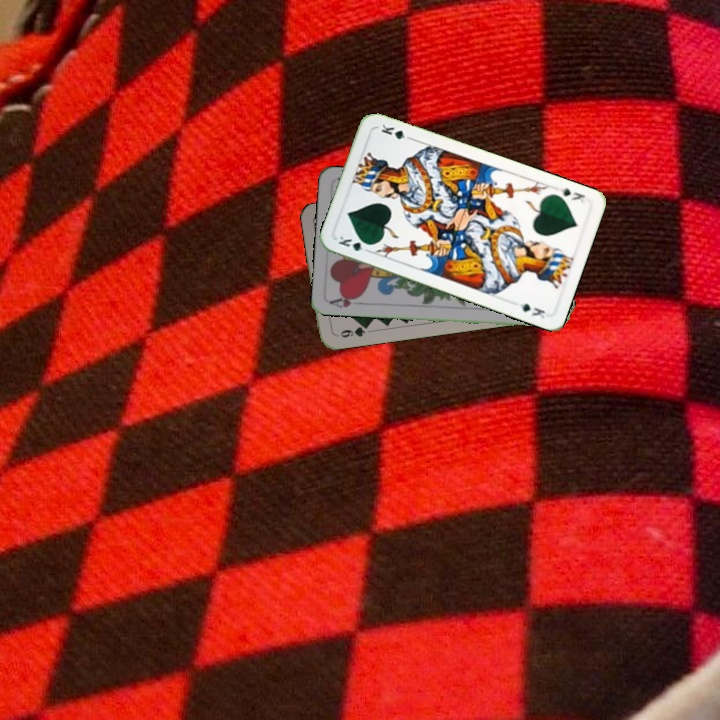G9: (332, 321, 371, 340)
GK: (334, 232, 374, 255), (556, 184, 588, 206)
HA: (326, 291, 366, 310)
